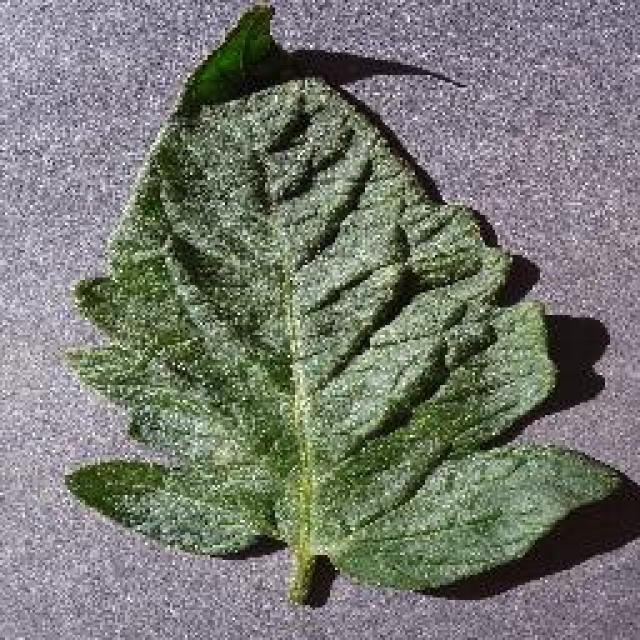Tomato_Healthy: (62, 54, 609, 605)
